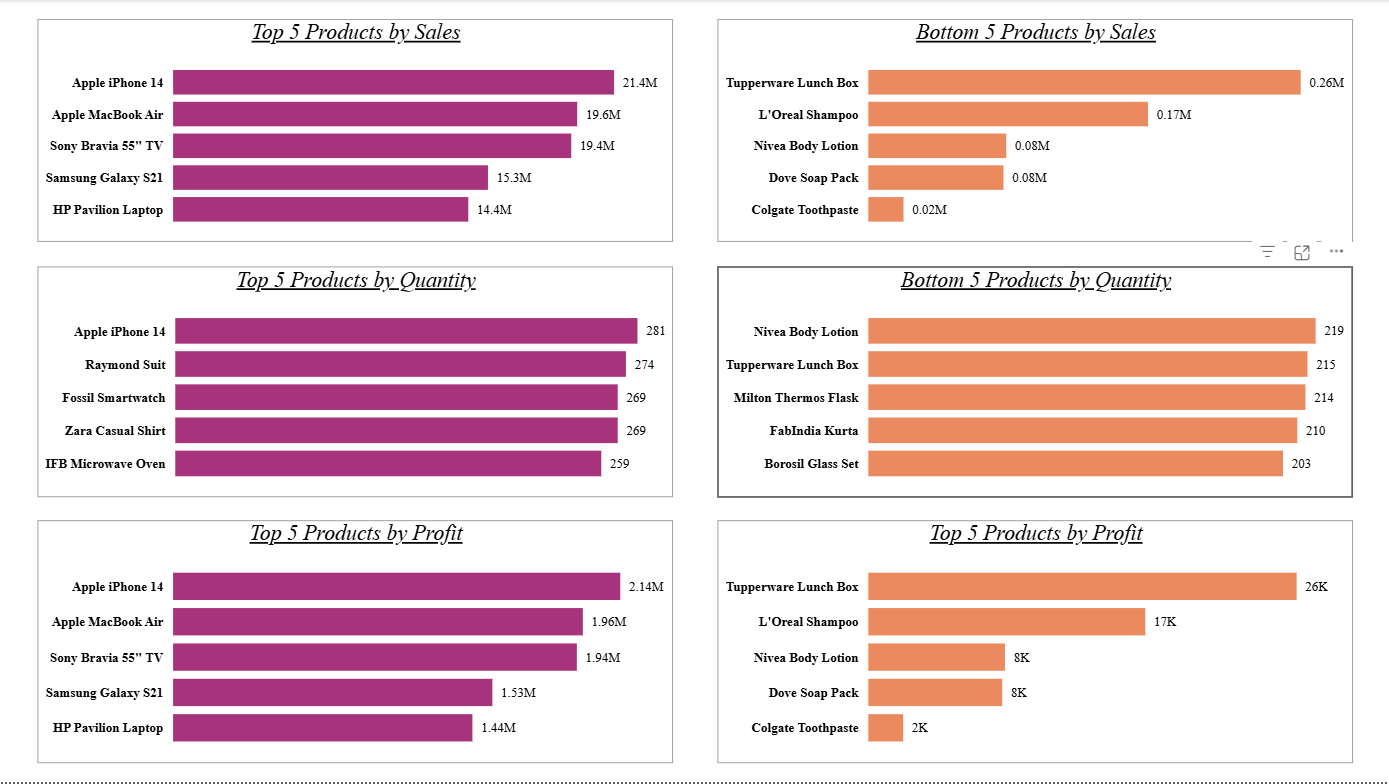

The dashboard page shown, as its layout file describes it:
{"tool":"powerbi","page":{"name":"Top/Bottom Analysis","canvas":[1280,720],"ordinal":1},"visuals":[{"type":"barChart","title":"Top 5 Products by Sales","fields":{"Category":["Dim Product.Product Name"],"Y":["Sum(Fact Table.Net Sales  )"]},"box":[34.2,18.5,583.9,205.1],"z":0},{"type":"barChart","title":"Bottom 5 Products by Sales","fields":{"Category":["Dim Product.Product Name"],"Y":["Sum(Fact Table.Net Sales  )"]},"box":[659.4,18.5,583.9,205.1],"z":1000},{"type":"barChart","title":"Top 5 Products by Quantity","fields":{"Category":["Dim Product.Product Name"],"Y":["Sum(Fact Table.Units Sold)"]},"box":[34.2,246.4,583.9,212.2],"z":2000},{"type":"barChart","title":"Bottom 5 Products by Quantity","fields":{"Category":["Dim Product.Product Name"],"Y":["Sum(Fact Table.Units Sold)"]},"box":[659.4,246.4,583.9,212.2],"z":3000},{"type":"barChart","title":"Top 5 Products by Profit","fields":{"Category":["Dim Product.Product Name"],"Y":["Sum(Fact Table.Profit)"]},"box":[34.2,478.5,583.9,223.6],"z":4000},{"type":"barChart","title":"Top 5 Products by Profit","fields":{"Category":["Dim Product.Product Name"],"Y":["Sum(Fact Table.Profit)"]},"box":[659.4,478.5,583.9,223.6],"z":5000}]}

Visuals, with their boxes in screenshot pixels (x1, y1, x2, y2), scaled from the page's 1280x720 canvas onto the 1389x784 screenshot:
"Top 5 Products by Sales" barChart: {"left": 37, "top": 20, "right": 671, "bottom": 243}
"Bottom 5 Products by Sales" barChart: {"left": 716, "top": 20, "right": 1349, "bottom": 243}
"Top 5 Products by Quantity" barChart: {"left": 37, "top": 268, "right": 671, "bottom": 499}
"Bottom 5 Products by Quantity" barChart: {"left": 716, "top": 268, "right": 1349, "bottom": 499}
"Top 5 Products by Profit" barChart: {"left": 37, "top": 521, "right": 671, "bottom": 765}
"Top 5 Products by Profit" barChart: {"left": 716, "top": 521, "right": 1349, "bottom": 765}
